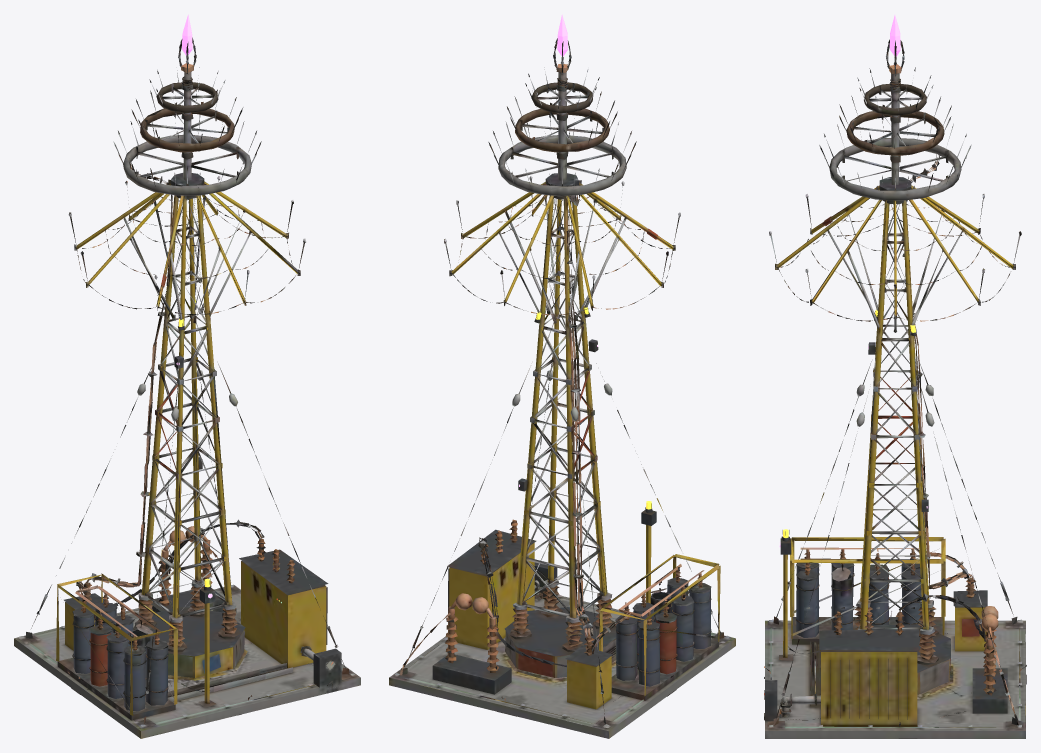
The model's file is cupula_raios.glb.
The picture shows the model from 3 angles, left to right: view 1: azimuth 30°, elevation 25°; view 2: azimuth 150°, elevation 25°; view 3: azimuth 270°, elevation 25°; orthographic projection. The views are drawn at different scales.
Visible parts, largest first — view 1: cupula_raios_corpo; view 2: cupula_raios_corpo; view 3: cupula_raios_corpo.
Boxes of the visible parts, x1,y1,x2,y2 form: cupula_raios_corpo: (14, 37, 360, 738); cupula_raios_corpo: (389, 38, 735, 738); cupula_raios_corpo: (764, 39, 1026, 738).
Size of the model in its own units: 3 by 8.44 by 3.
6 materials, 1 textured.
